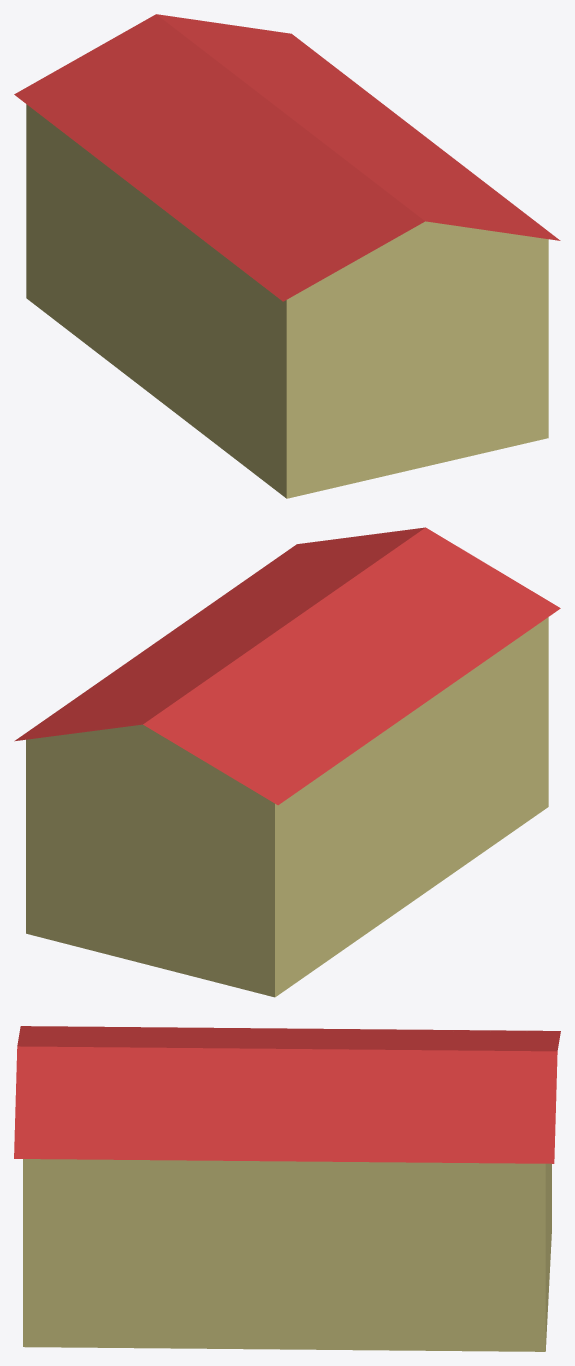
The picture shows the model from 3 angles, top to bottom: view 1: azimuth 30°, elevation 25°; view 2: azimuth 150°, elevation 25°; view 3: azimuth 270°, elevation 25°; orthographic projection. The views are drawn at different scales.
Bounding box in the file's own units: 9.04 × 15.57 × 7.57.
